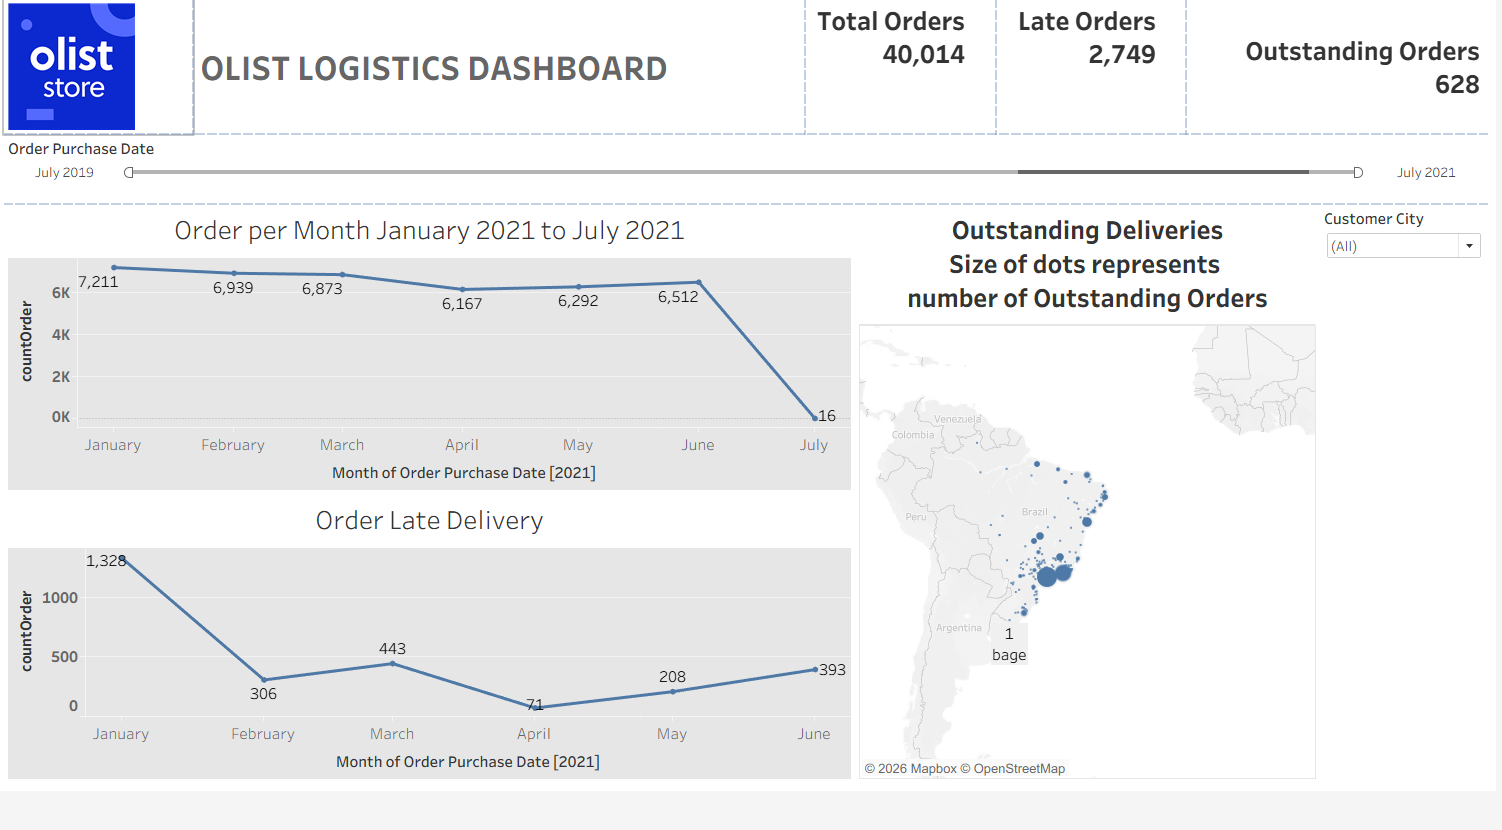

The dashboard page shown, as its layout file describes it:
{"tool":"tableau","page":{"name":"Dashboard 1","canvas":[1500,800],"ordinal":0},"visuals":[{"type":"image","param":"C:/Data/OLIST+LOGO.jpeg","box":[8,8,189,135]},{"type":"text","box":[196.9,8,612,135]},{"type":"worksheet","title":"TotalOrders2","mark":"Automatic","box":[808.9,8,191,135]},{"type":"worksheet","title":"Count of late deliveries","mark":"Automatic","box":[1000,8,190,135]},{"type":"worksheet","title":"Outstanding Deliveries","mark":"Automatic","box":[1190,8,302.1,135]},{"type":"filter","title":"Orders per Month","param":"[federated.16yklvi0hzmz631efmssl1b0ixyl].[tmn:Order Purchase Date:qk]","box":[8,143,1484,70]},{"type":"worksheet","title":"Orders per Month","mark":"Automatic","rows":["Calculation_1164409036619776"],"cols":["Order Purchase Date"],"box":[8,213,851,289.5]},{"type":"worksheet","title":"Map of Outstanding Deliveries","mark":"Automatic","box":[859,213,465,579]},{"type":"filter","title":"Map of Outstanding Deliveries","param":"[federated.16yklvi0hzmz631efmssl1b0ixyl].[none:Customer City:nk]","box":[1324,213,168,579]},{"type":"worksheet","title":"Order Count Late Delivery","mark":"Automatic","rows":["Calculation_1164409036619776"],"cols":["Order Purchase Date"],"box":[8,502.5,851,289.5]}]}

Visuals, with their boxes on the page's 1500x800 design canvas (x1, y1, x2, y2). These are canvas units, not pixel positions in the 1502x830 screenshot, which may show the page scaled, cropped or inside an application window:
image: detection(8, 8, 197, 143)
text: detection(197, 8, 809, 143)
"TotalOrders2" worksheet: detection(809, 8, 1000, 143)
"Count of late deliveries" worksheet: detection(1000, 8, 1190, 143)
"Outstanding Deliveries" worksheet: detection(1190, 8, 1492, 143)
"Orders per Month" filter: detection(8, 143, 1492, 213)
"Orders per Month" worksheet: detection(8, 213, 859, 502)
"Map of Outstanding Deliveries" worksheet: detection(859, 213, 1324, 792)
"Map of Outstanding Deliveries" filter: detection(1324, 213, 1492, 792)
"Order Count Late Delivery" worksheet: detection(8, 502, 859, 792)
